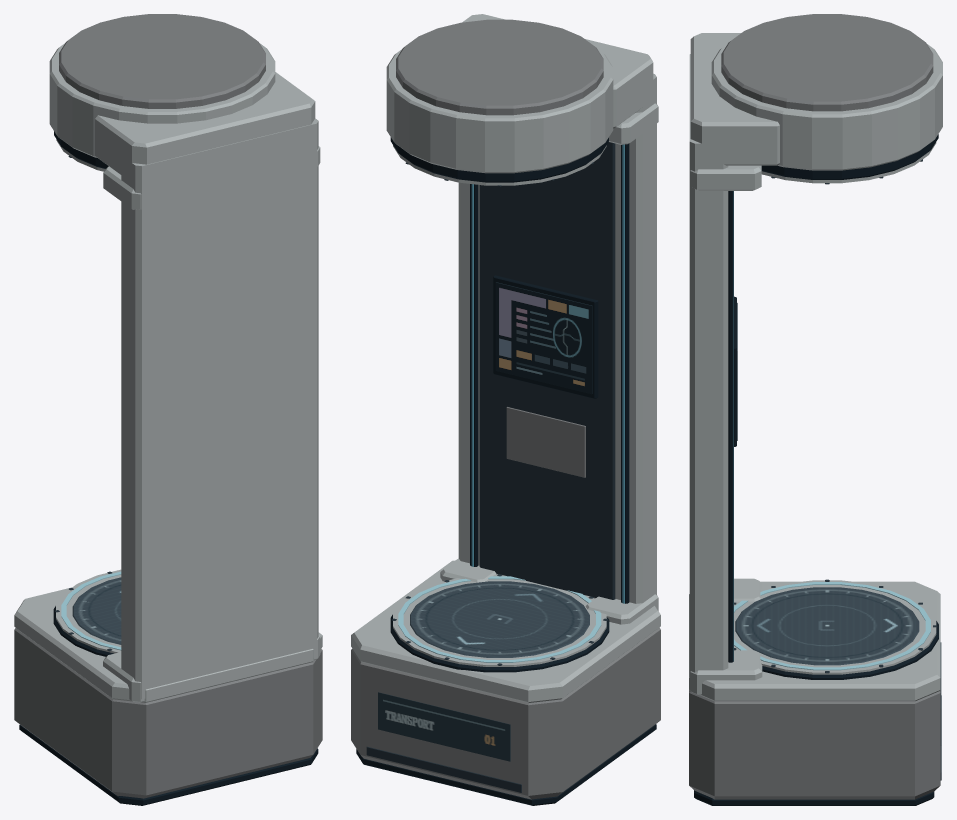
The model's file is transporter_complete.obj.
3 views of the same model, side by side, from view 1: azimuth 30°, elevation 25°; view 2: azimuth 150°, elevation 25°; view 3: azimuth 270°, elevation 25° (orthographic). The views are drawn at different scales.
Visible parts, largest first — view 1: middle_rear_spine, upper_rear_spine, lower_chamfered_plinth, lower_rear_spine, upper_canopy_crown, upper_canopy_mount, lower_deck_surround, upper_emitter_canopy, lower_standing_disc, lower_floor_gasket, lower_continuous_emitter_rim, upper_left_canopy_shoulder (+2 smaller); view 2: lower_chamfered_plinth, middle_recessed_backpanel, upper_canopy_crown, upper_emitter_canopy, lower_recessed_backpanel, upper_recessed_backpanel, middle_rear_spine, lower_standing_disc, lower_deck_surround, middle_inset_instrument, upper_rear_spine, lower_front_identification (+21 smaller); view 3: lower_chamfered_plinth, upper_canopy_crown, upper_emitter_canopy, lower_standing_disc, middle_rear_spine, lower_deck_surround, upper_rear_spine, upper_canopy_mount, lower_rear_spine, lower_continuous_emitter_rim, lower_floor_gasket, upper_emitter_socket (+9 smaller).
Boxes of the visible parts, x1,y1,x2,y2 form: middle_rear_spine: (121, 309, 318, 581); upper_rear_spine: (121, 118, 318, 353); lower_chamfered_plinth: (14, 628, 322, 798); lower_rear_spine: (121, 536, 318, 699); upper_canopy_crown: (59, 14, 265, 108); upper_canopy_mount: (95, 72, 315, 182); lower_deck_surround: (14, 587, 322, 702); upper_emitter_canopy: (49, 43, 275, 157); lower_standing_disc: (72, 577, 121, 644); lower_floor_gasket: (19, 725, 318, 805); lower_continuous_emitter_rim: (56, 569, 121, 653); upper_left_canopy_shoulder: (103, 166, 141, 209); lower_chamfered_plinth: (351, 627, 660, 799); middle_recessed_backpanel: (479, 239, 615, 500); upper_canopy_crown: (396, 19, 603, 115); upper_emitter_canopy: (386, 49, 613, 173); lower_recessed_backpanel: (479, 468, 615, 599); upper_recessed_backpanel: (479, 142, 615, 272); middle_rear_spine: (458, 231, 656, 504); lower_standing_disc: (410, 581, 589, 657); lower_deck_surround: (351, 560, 660, 702); middle_inset_instrument: (495, 282, 592, 394); upper_rear_spine: (458, 73, 656, 276); lower_front_identification: (378, 692, 510, 761); lower_chamfered_plinth: (689, 690, 940, 799); upper_canopy_crown: (721, 14, 933, 111); upper_emitter_canopy: (711, 44, 942, 170); lower_standing_disc: (735, 587, 919, 665); middle_rear_spine: (689, 334, 728, 569); lower_deck_surround: (689, 581, 940, 701); upper_rear_spine: (689, 54, 728, 336); upper_canopy_mount: (690, 33, 779, 165); lower_rear_spine: (689, 567, 728, 687); lower_continuous_emitter_rim: (734, 580, 936, 674); lower_floor_gasket: (694, 790, 934, 805); upper_emitter_socket: (761, 134, 938, 179).
Bounding box in the file's own units: 0.9688 × 3 × 0.9867.
